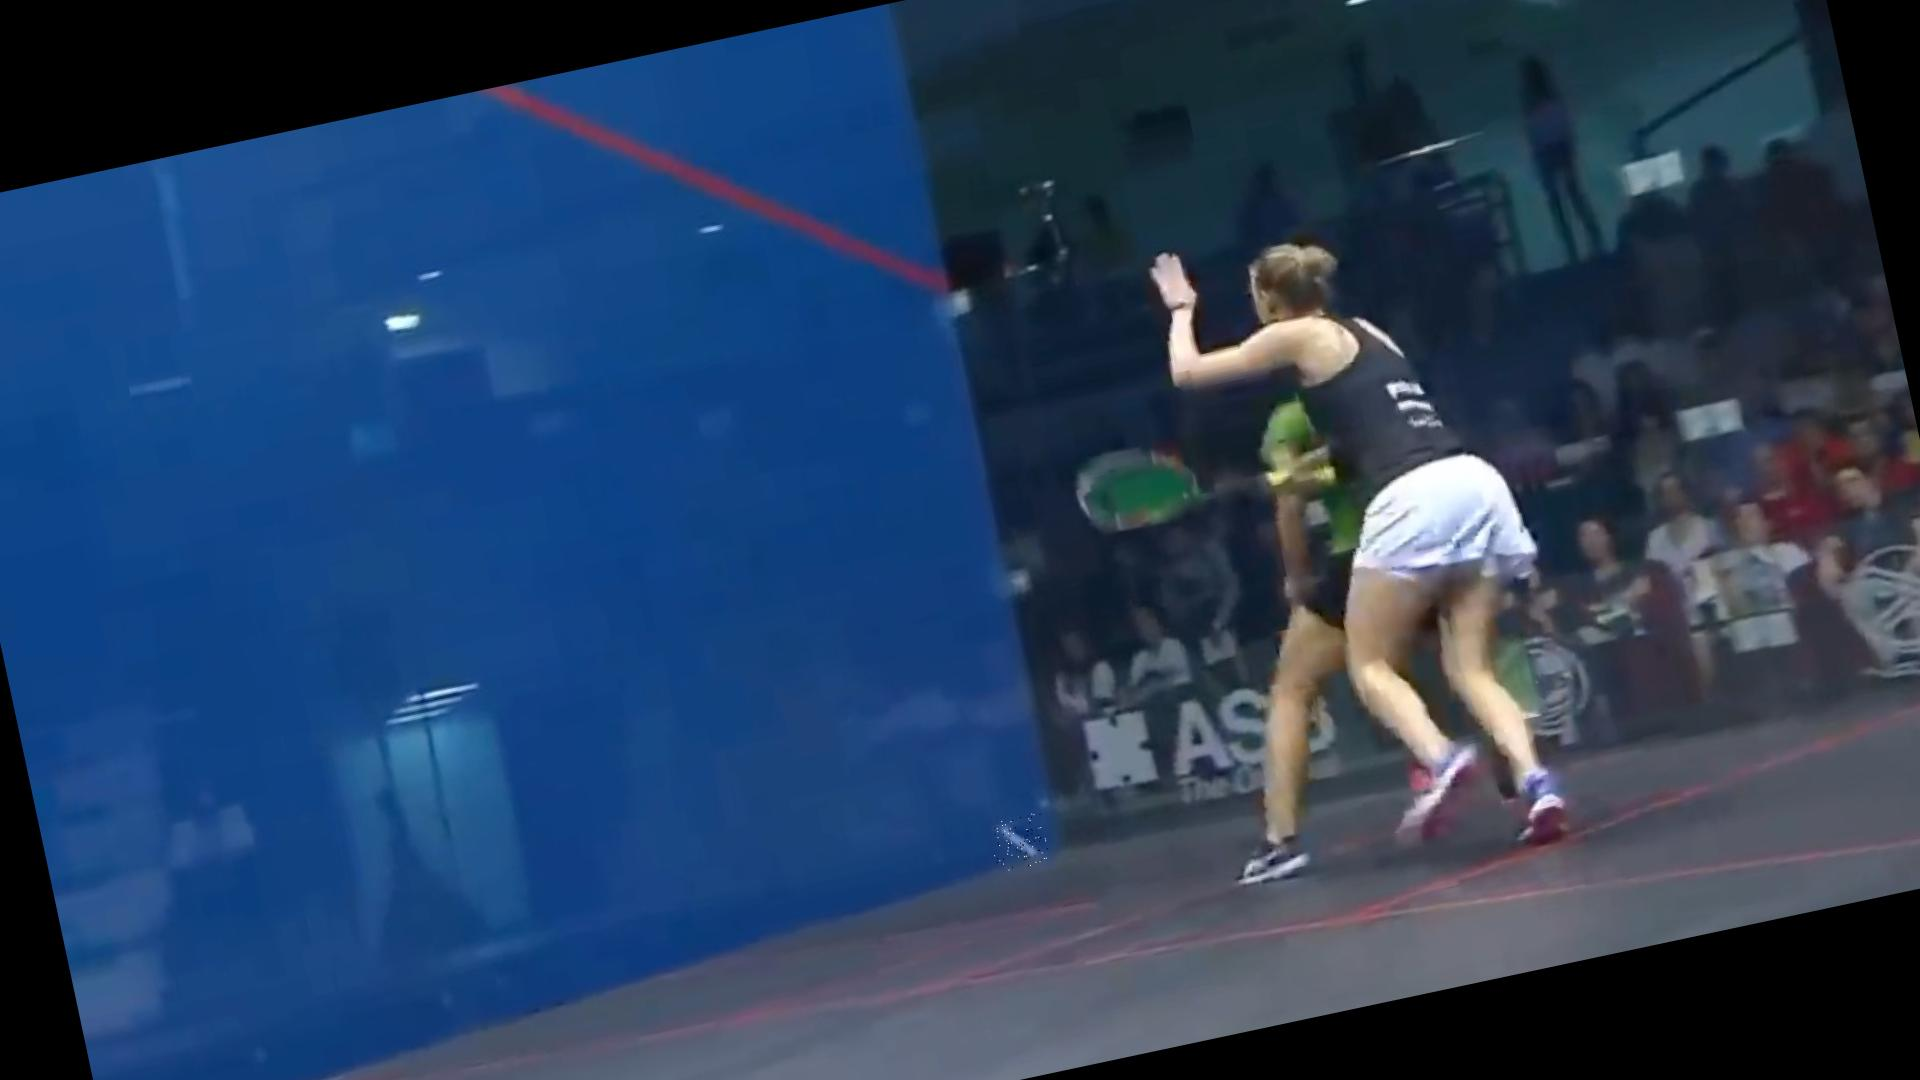Squash-Ball: (988, 811, 1051, 873)
